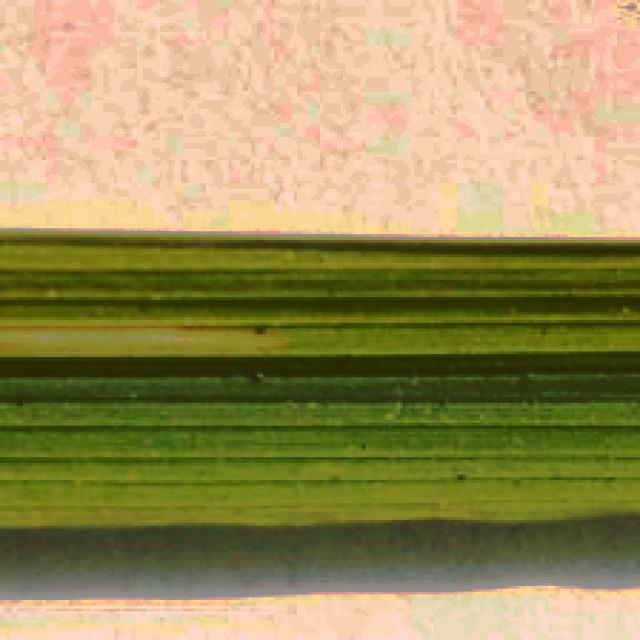unhealth: (0, 310, 312, 375)
